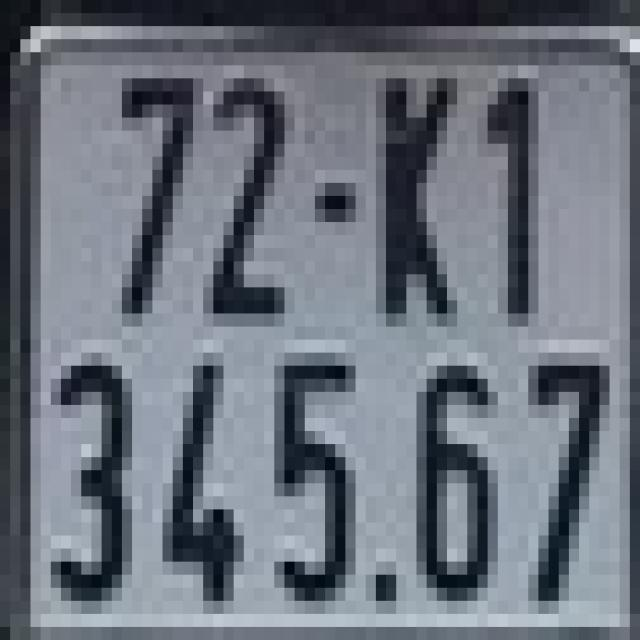1: (488, 78, 538, 326)
2: (213, 65, 295, 314)
3: (51, 352, 132, 600)
4: (162, 352, 244, 600)
5: (274, 352, 356, 600)
6: (416, 352, 498, 600)
7: (112, 65, 194, 314), (528, 352, 610, 600)
K: (376, 66, 458, 327)
